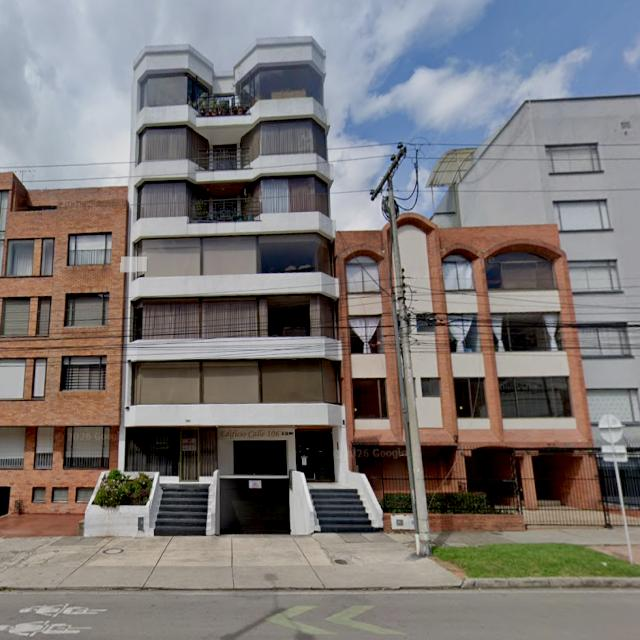fachada: (120, 38, 347, 532), (430, 96, 639, 443), (398, 215, 600, 512), (0, 174, 127, 514)
poste: (372, 147, 431, 555), (389, 261, 416, 516), (614, 453, 633, 563)
